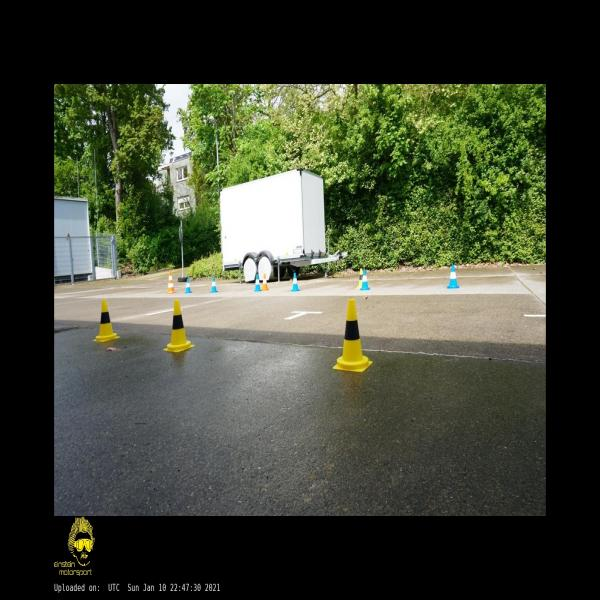blue_cone: (447, 265, 459, 288), (360, 269, 369, 290), (291, 273, 299, 291), (210, 277, 218, 292), (254, 274, 261, 291), (185, 278, 192, 293)
large_orange_cone: (166, 270, 176, 294)
orange_cone: (261, 274, 269, 290)
yellow_cone: (333, 299, 373, 371), (163, 300, 195, 352), (93, 300, 120, 342), (356, 268, 362, 288)
